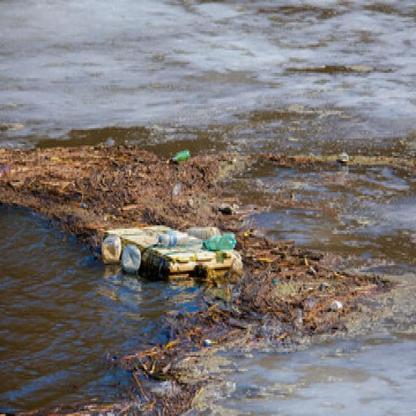plastic bottle: (158, 230, 195, 247), (201, 235, 236, 248), (171, 148, 190, 161)
